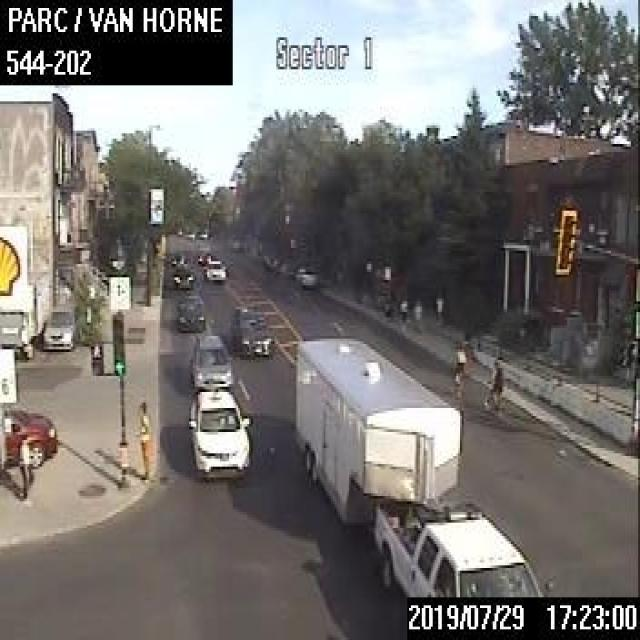cyclist: (478, 360, 510, 422), (451, 339, 469, 397)
pedestrian: (134, 398, 150, 478), (16, 431, 34, 498), (396, 291, 408, 327), (411, 294, 422, 331), (433, 287, 444, 323)
vehicle: (294, 336, 554, 598), (187, 388, 250, 475), (0, 268, 47, 358), (2, 406, 55, 466), (188, 332, 232, 390), (230, 303, 273, 356), (42, 298, 80, 346), (174, 292, 205, 328), (294, 262, 317, 288), (202, 258, 226, 279), (172, 264, 193, 287), (169, 250, 186, 265), (196, 247, 210, 263)
